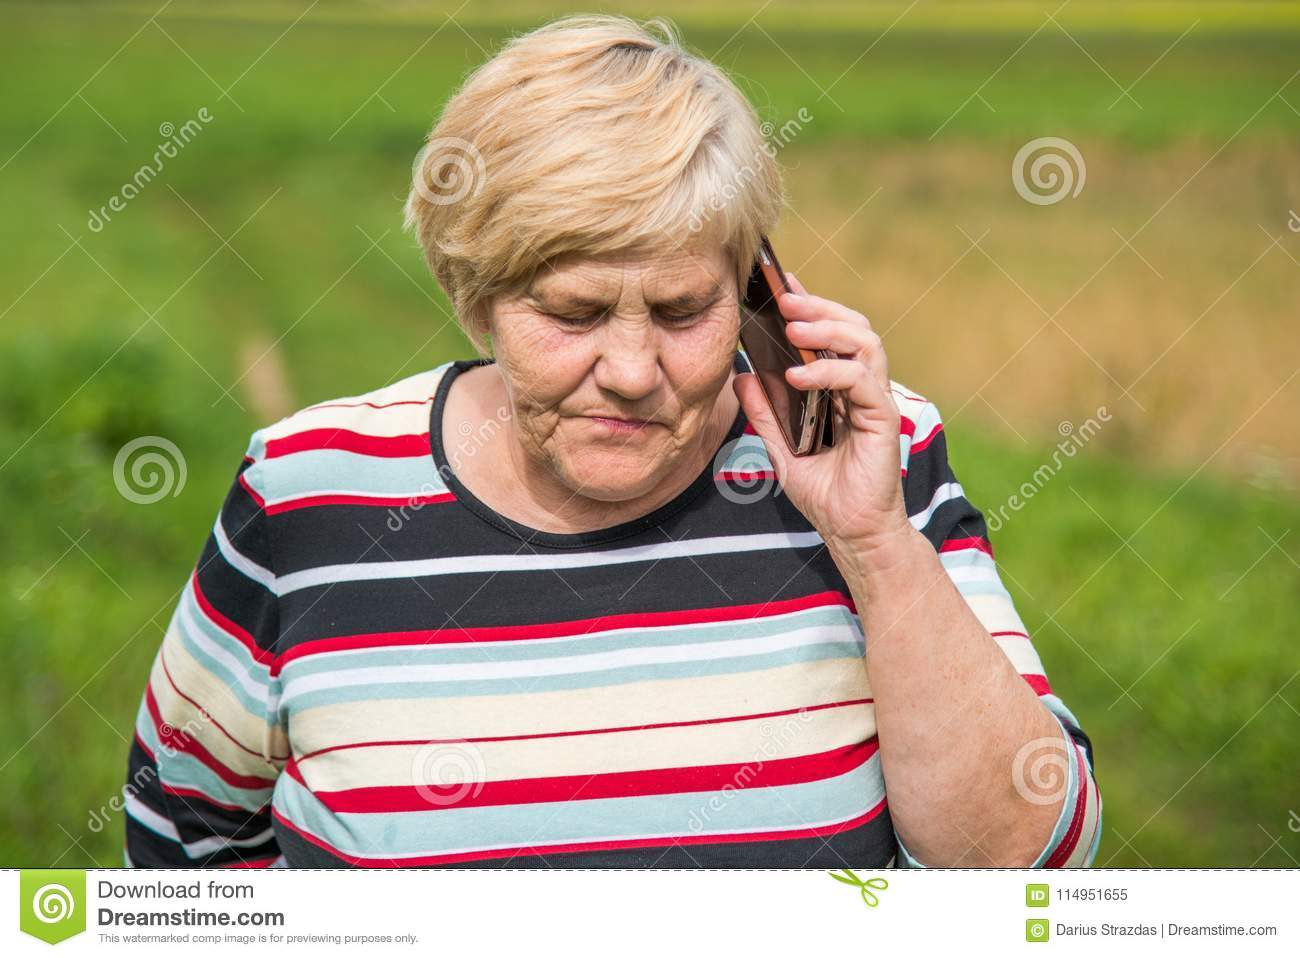phone: (723, 214, 855, 452)
talk: (494, 202, 909, 569)
